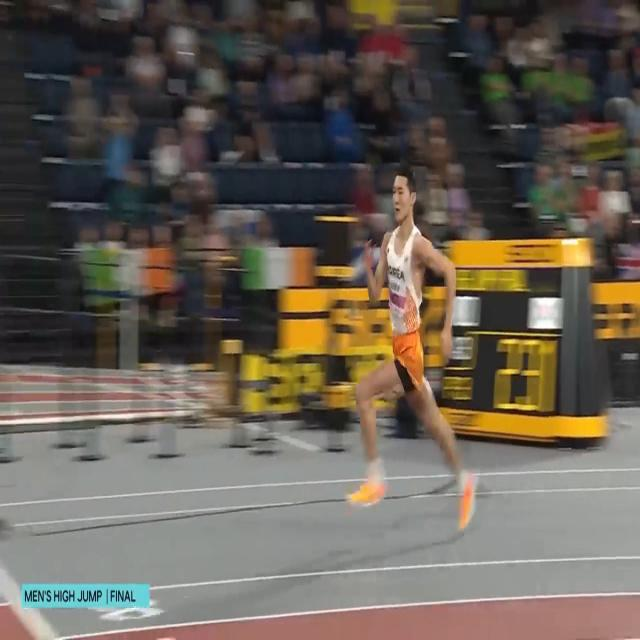run: (345, 161, 479, 531)
